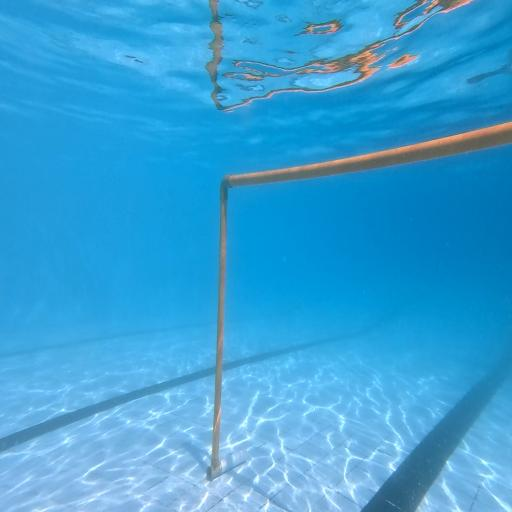gate: (206, 121, 512, 480)
